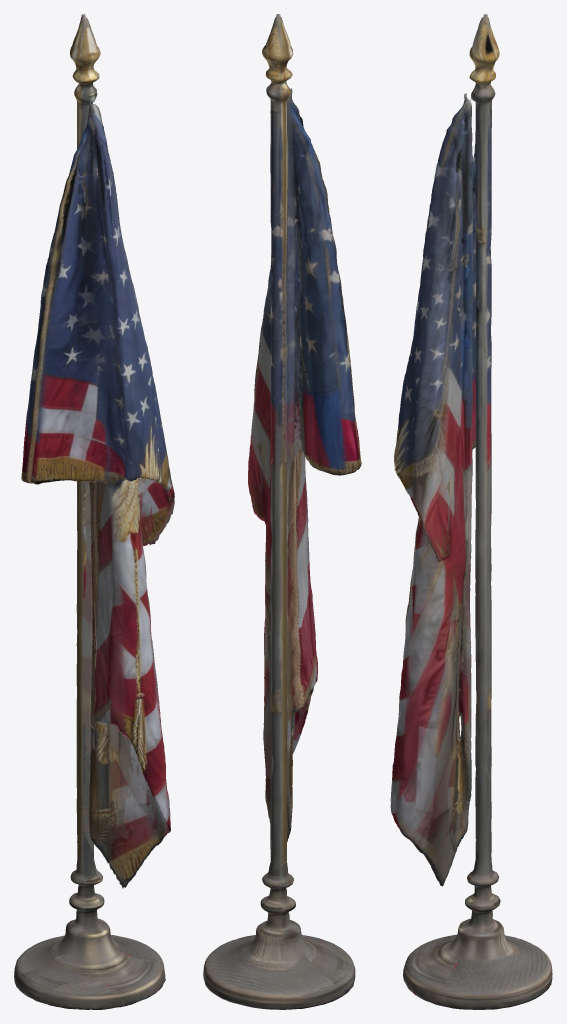
File: Meshy_Model_20250604_201039.glb
3 views of the same model, side by side, from view 1: azimuth 30°, elevation 25°; view 2: azimuth 150°, elevation 25°; view 3: azimuth 270°, elevation 25° (orthographic).
Size of the model in its own units: 0.3013 by 2 by 0.3051.
Materials: 1 (1 with a texture image).
